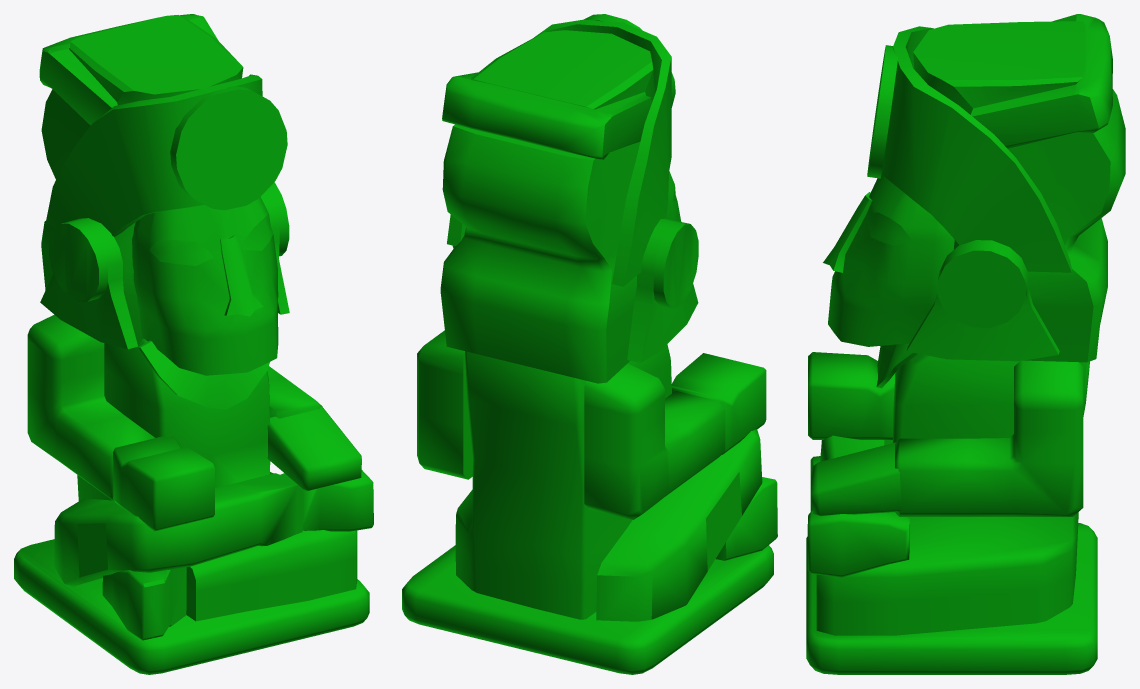
The model's file is maya_statue_lazer.FBX.
The picture shows the model from 3 angles, left to right: view 1: azimuth 30°, elevation 25°; view 2: azimuth 150°, elevation 25°; view 3: azimuth 270°, elevation 25°; orthographic projection. The views are drawn at different scales.
Parts seen in each view (by area): view 1: maya_statue_laser; view 2: maya_statue_laser; view 3: maya_statue_laser.
Boxes of the visible parts, x1,y1,x2,y2 form: maya_statue_laser: (14,14,373,674); maya_statue_laser: (402,14,777,674); maya_statue_laser: (806,14,1125,674).
Bounding box in the file's own units: 0.7752 × 1.66 × 0.8493.
